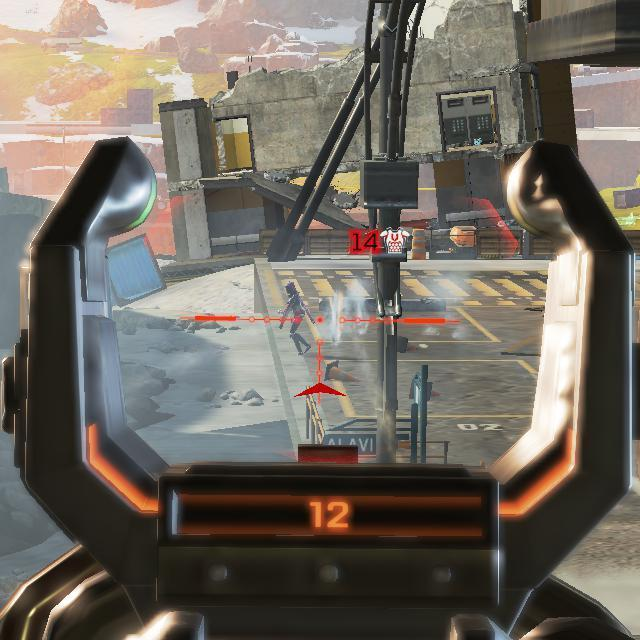avatar: (282, 278, 313, 358)
